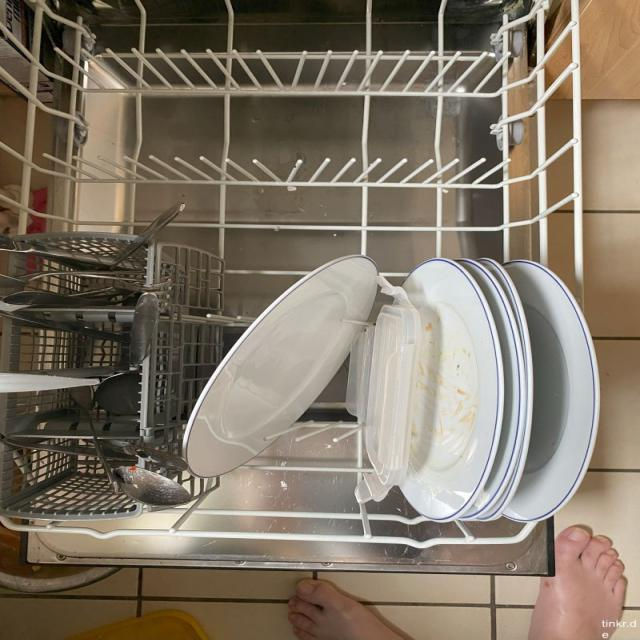clutery_bin: (10, 257, 135, 522)
empty_slot: (21, 0, 570, 260)
